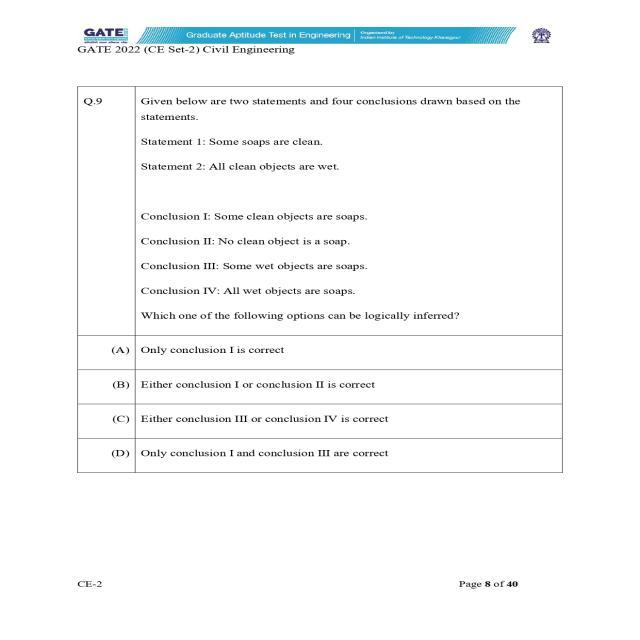Answer_Block: (49, 330, 591, 500)
Question_Answer_Block: (49, 72, 591, 501)
Question_Block: (49, 71, 591, 328)
Question_Paper_Area: (49, 72, 591, 501)
